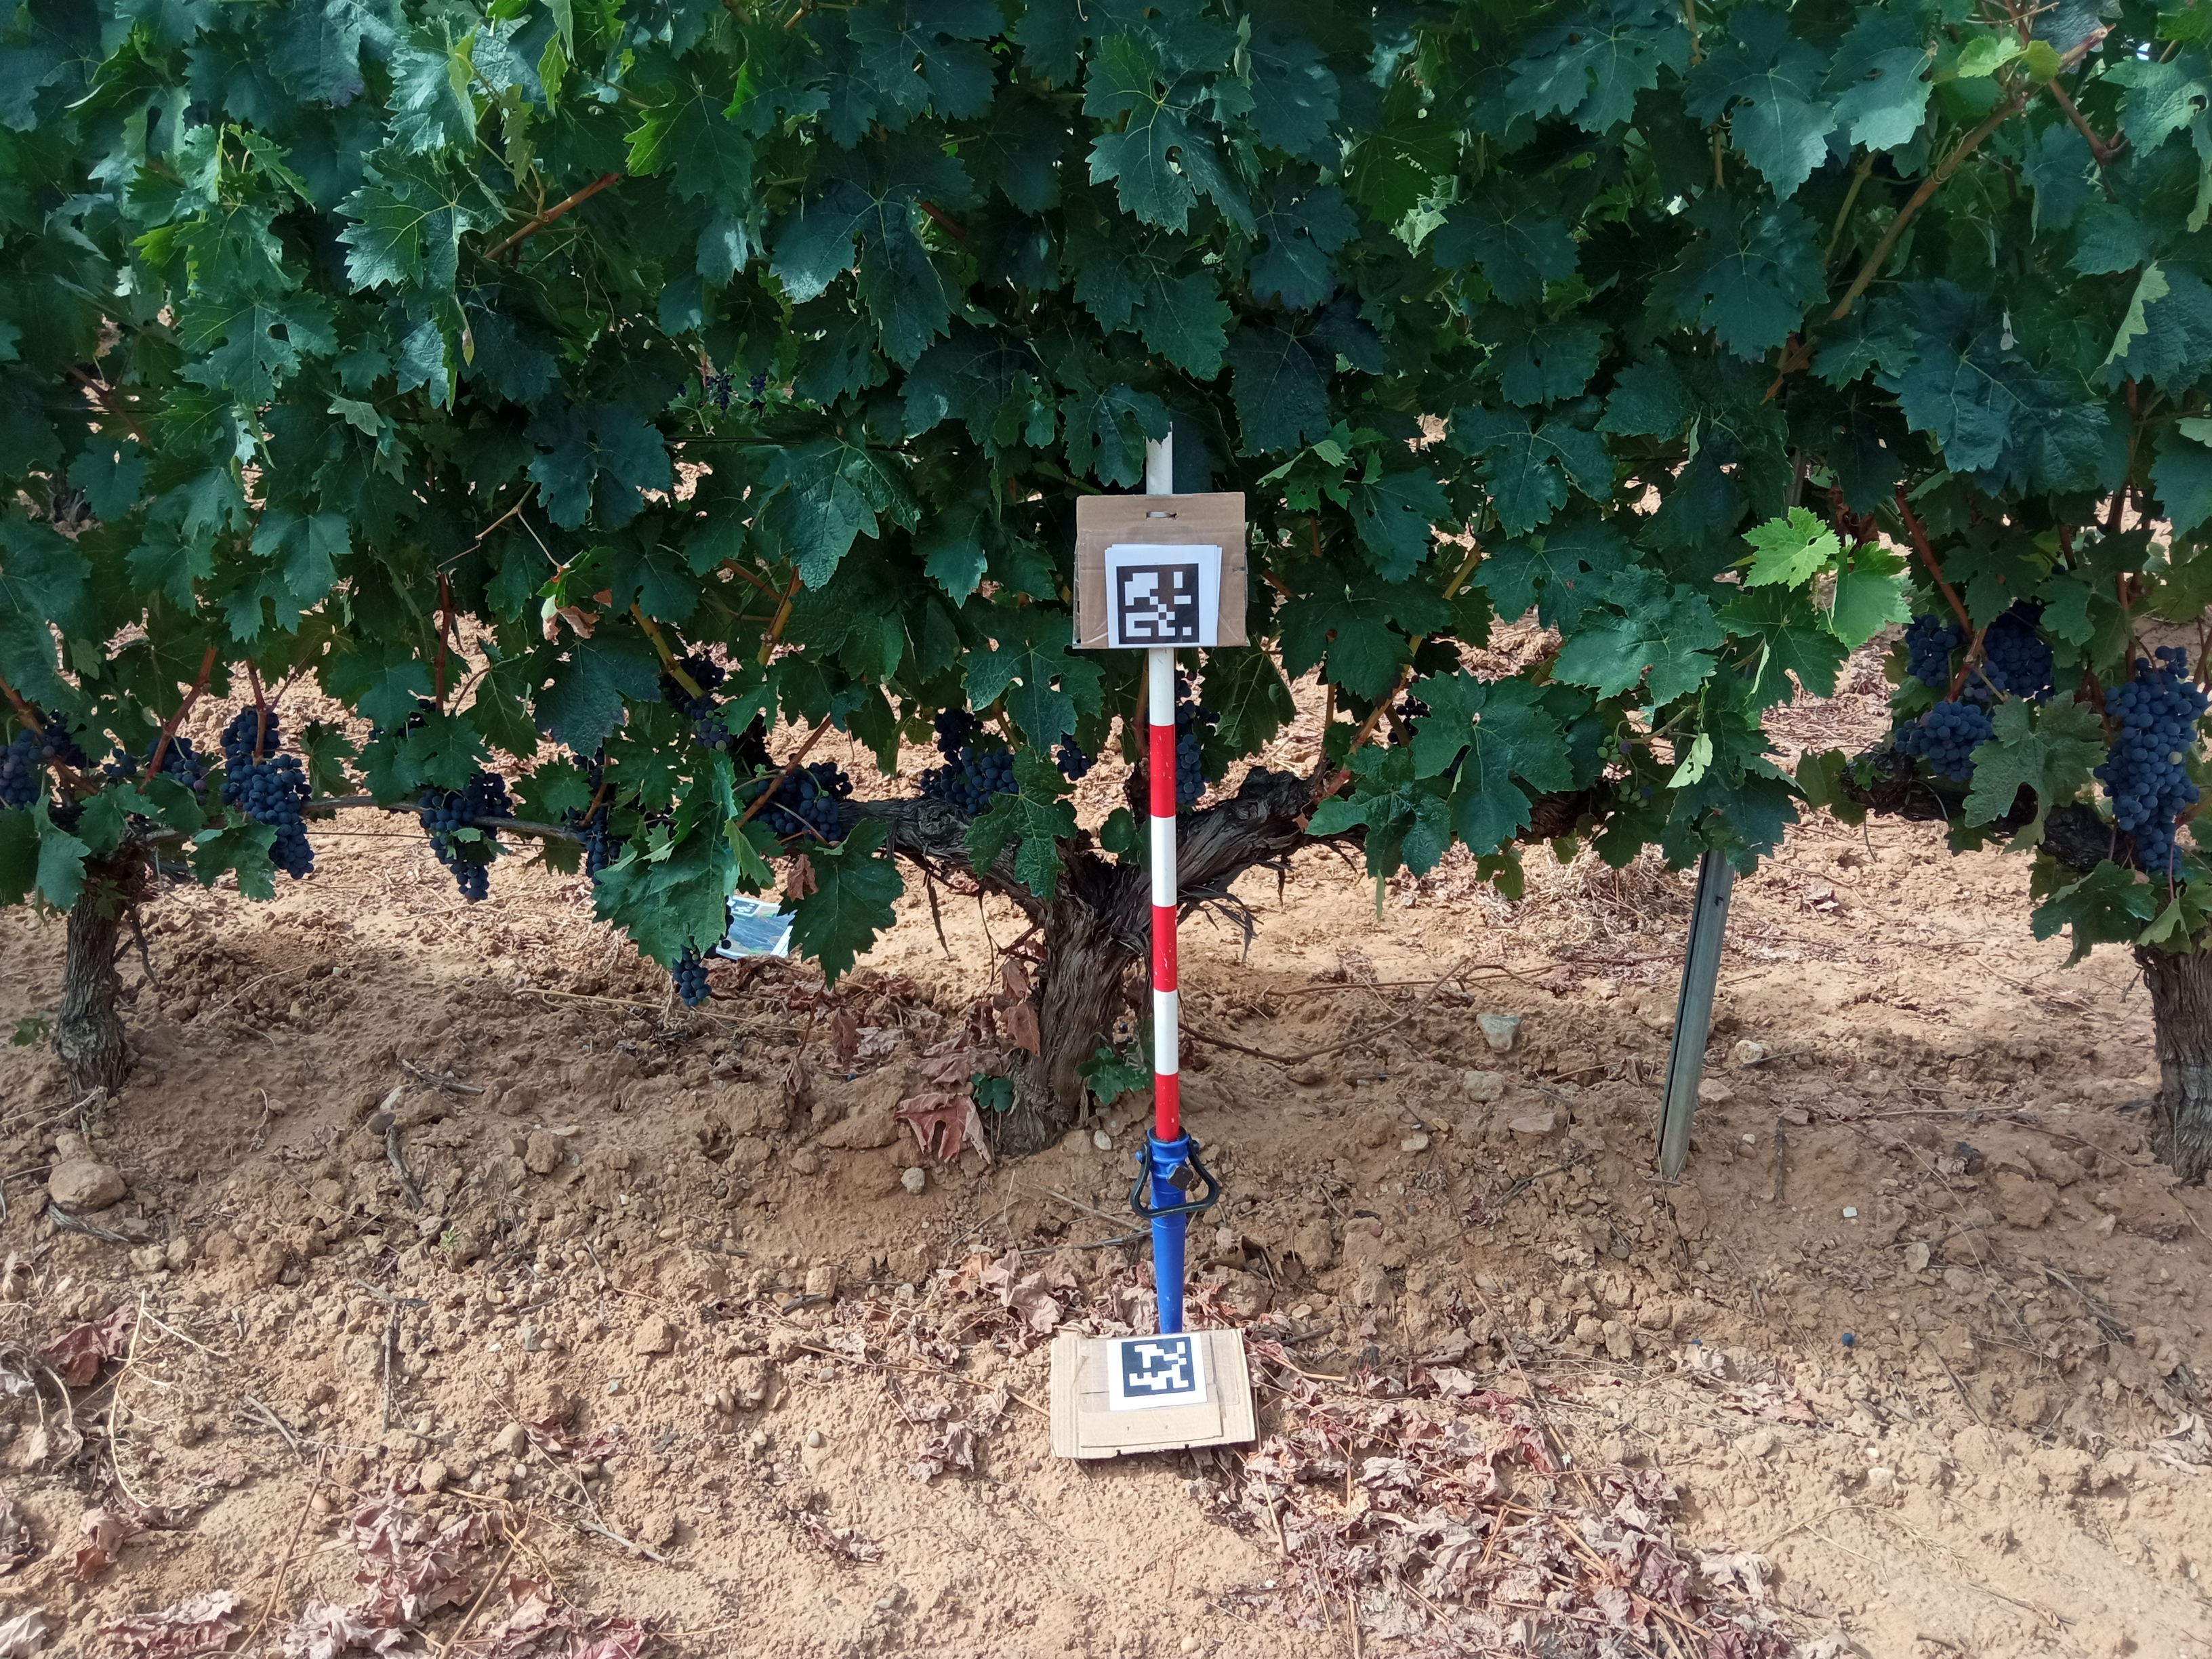grapes: (2094, 645, 2209, 873), (1902, 615, 2054, 701), (418, 772, 514, 903), (216, 758, 315, 877), (920, 708, 1024, 814), (1895, 702, 2001, 784), (752, 762, 855, 842), (0, 723, 77, 812), (1177, 673, 1219, 807), (564, 810, 622, 887), (221, 704, 277, 760), (664, 946, 712, 1007), (678, 695, 732, 748), (167, 737, 207, 798), (1054, 732, 1094, 781), (98, 748, 138, 781), (1597, 732, 1637, 763), (1613, 781, 1653, 810)
